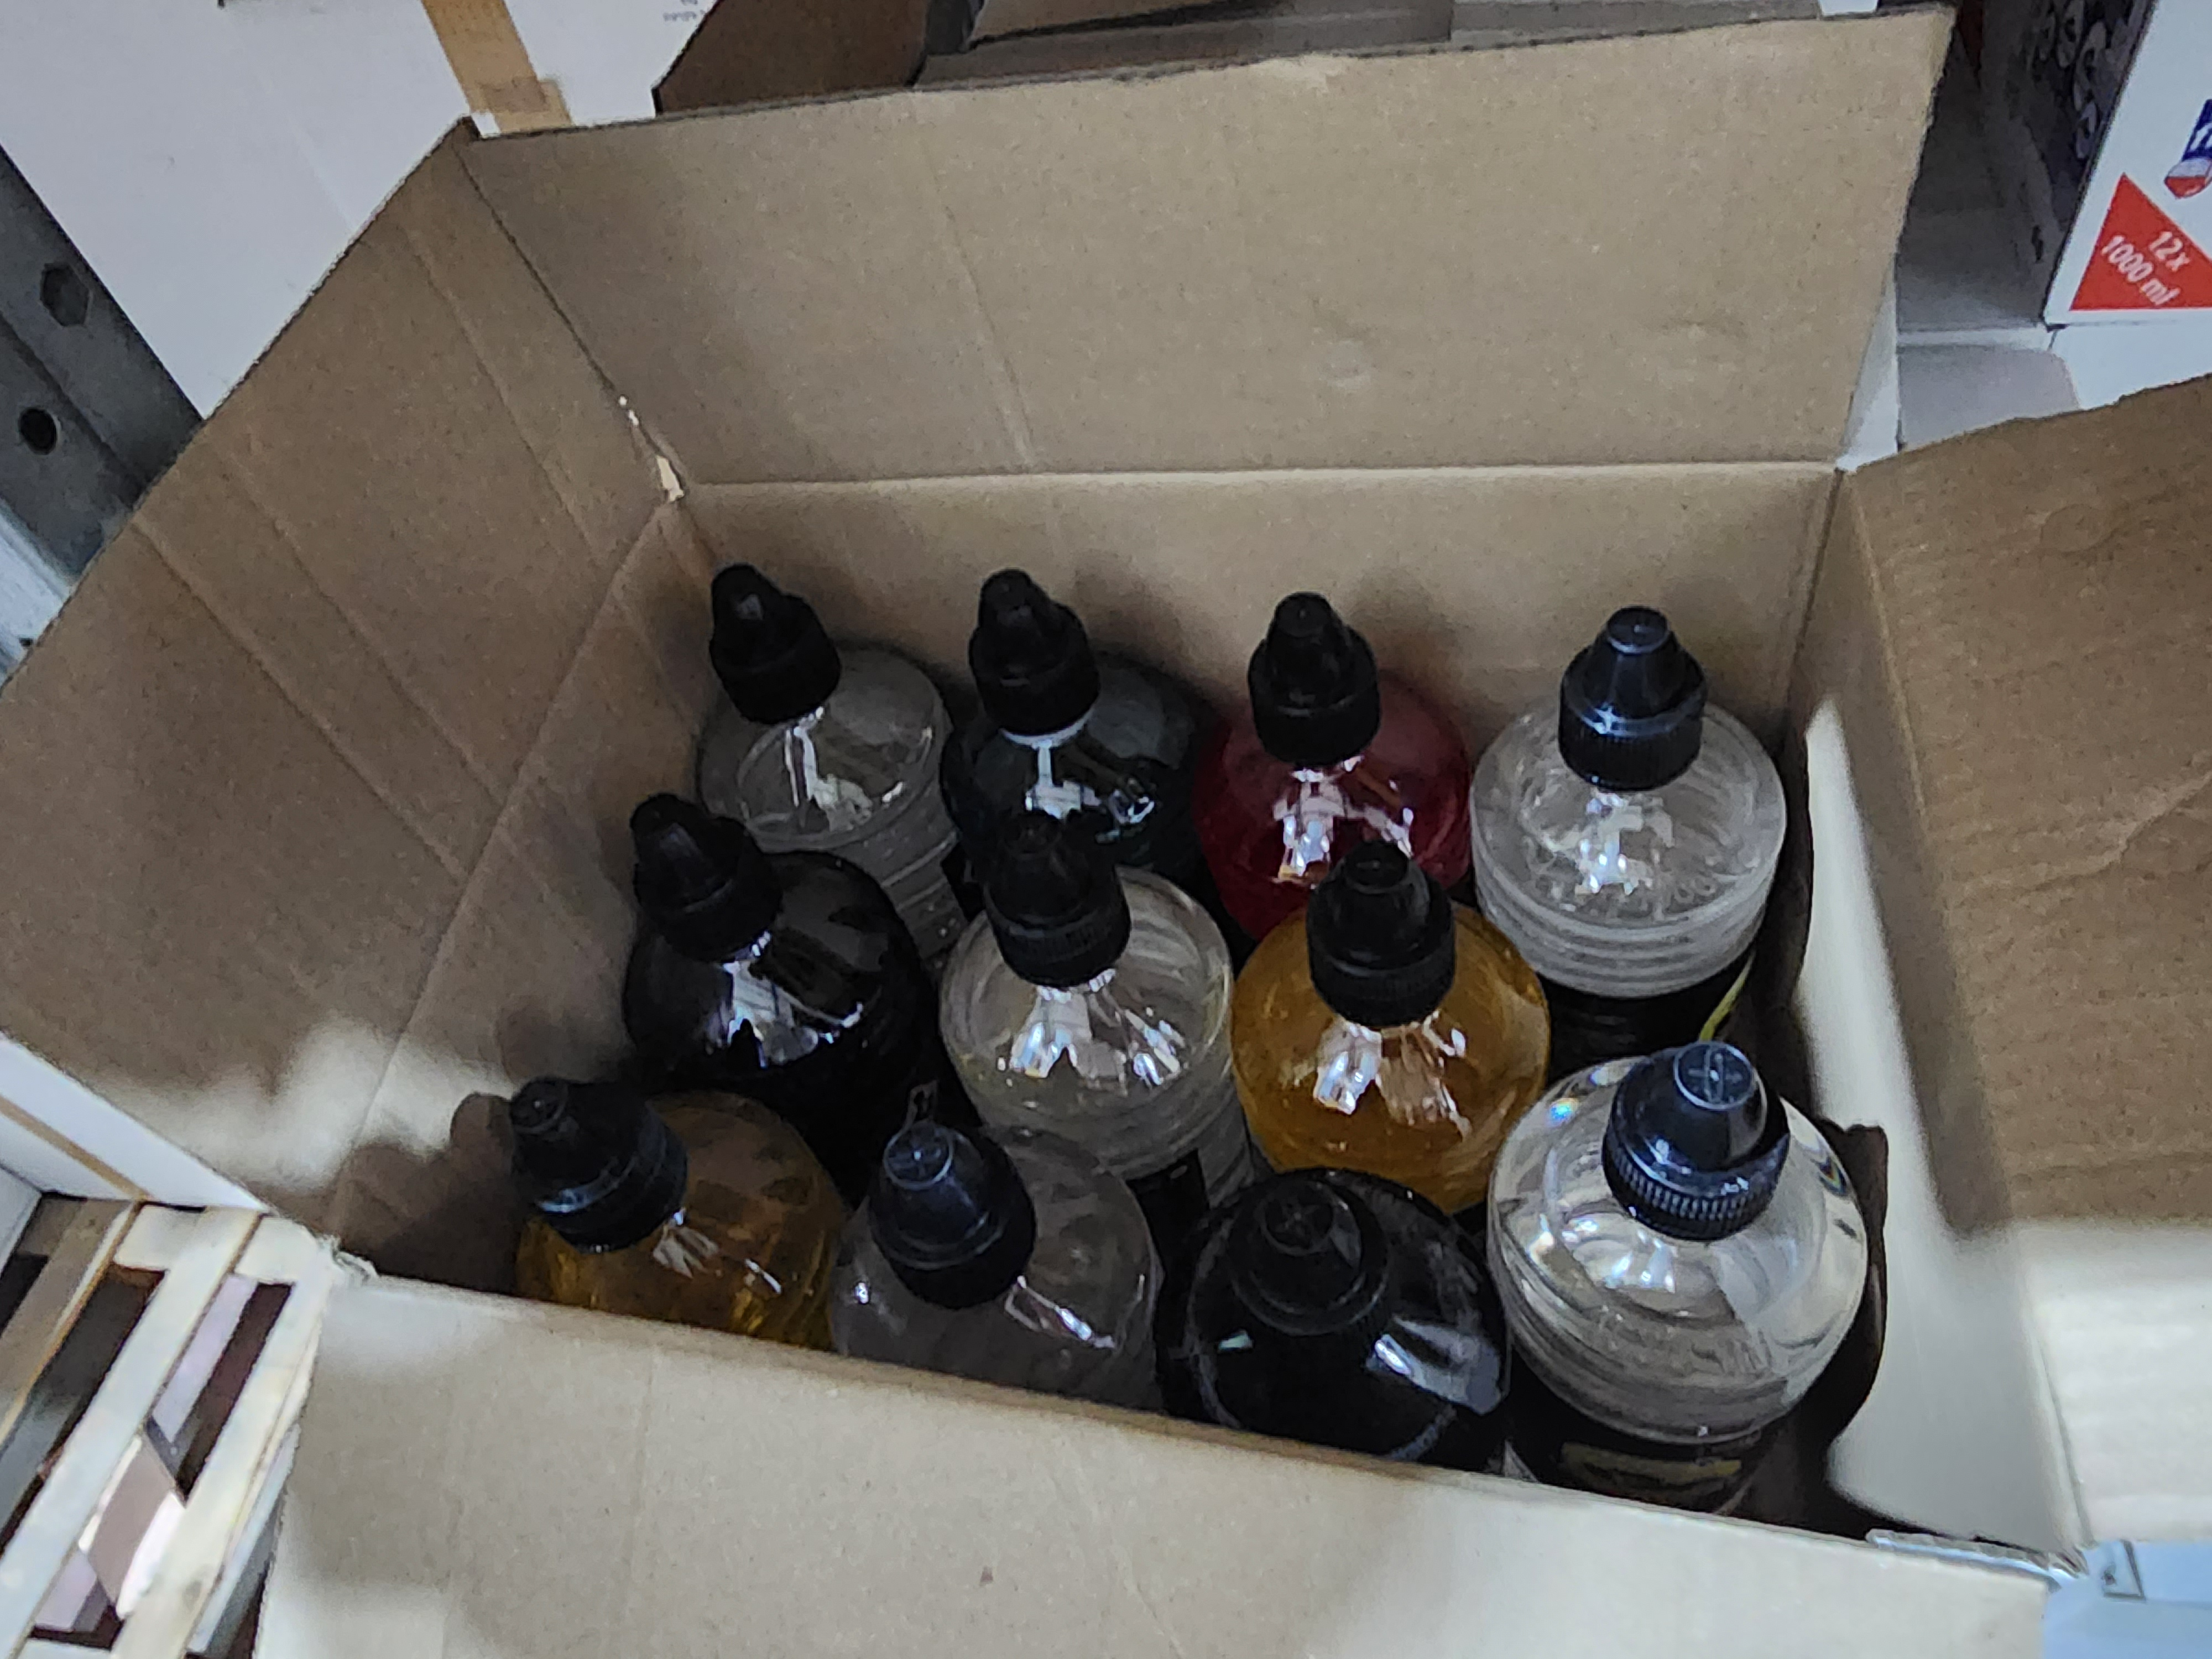bottle: (1484, 1012, 1900, 1439), (434, 1009, 855, 1375), (1165, 1103, 1527, 1485), (1212, 807, 1552, 1197), (827, 1077, 1186, 1445), (573, 772, 937, 1096), (1489, 579, 1780, 971), (937, 781, 1231, 1155), (1195, 547, 1470, 892), (662, 540, 939, 871), (920, 551, 1200, 870)
